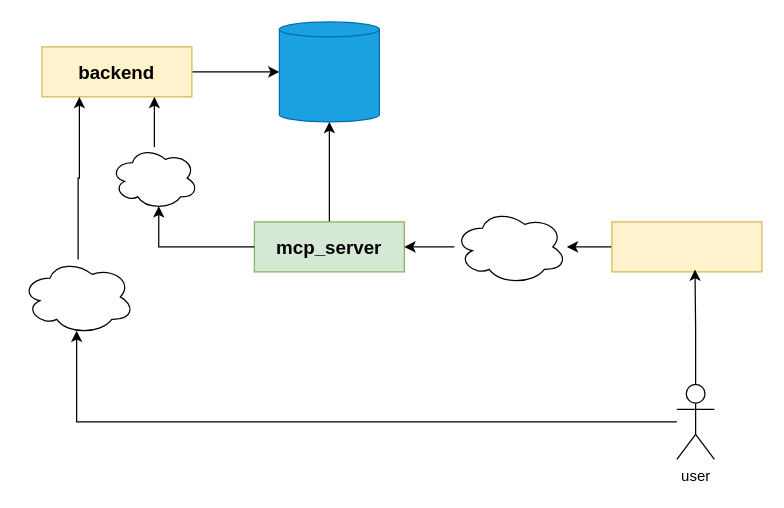
Image size: 784x508. Some labels were removed from this diagram. The centre of each missing label's shape, as x and y in pixels:
"mcp_client" goes at [686,246].
"MySQL" goes at [328,71].
